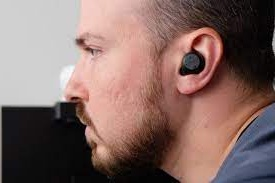earphone: (170, 27, 223, 95)
